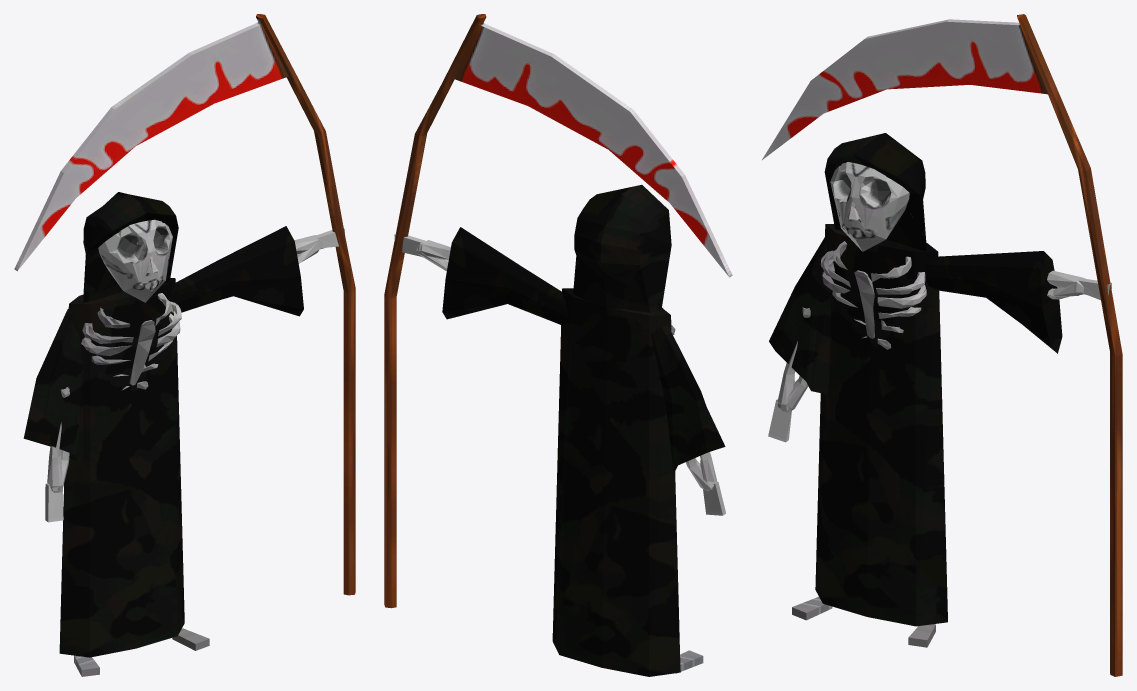
Rendered from Ripper.glb.
The picture shows the model from 3 angles, left to right: view 1: azimuth 30°, elevation 25°; view 2: azimuth 150°, elevation 25°; view 3: azimuth 330°, elevation 25°; orthographic projection. The views are drawn at different scales.
Visible parts, largest first — view 1: Ripper; view 2: Ripper; view 3: Ripper.
Boxes of the visible parts, x1,y1,x2,y2 form: Ripper: [14, 14, 355, 676]; Ripper: [384, 14, 732, 676]; Ripper: [762, 14, 1122, 676].
Bounding box in the file's own units: 87.05 × 147 × 20.8.
1 material, 1 textured.
